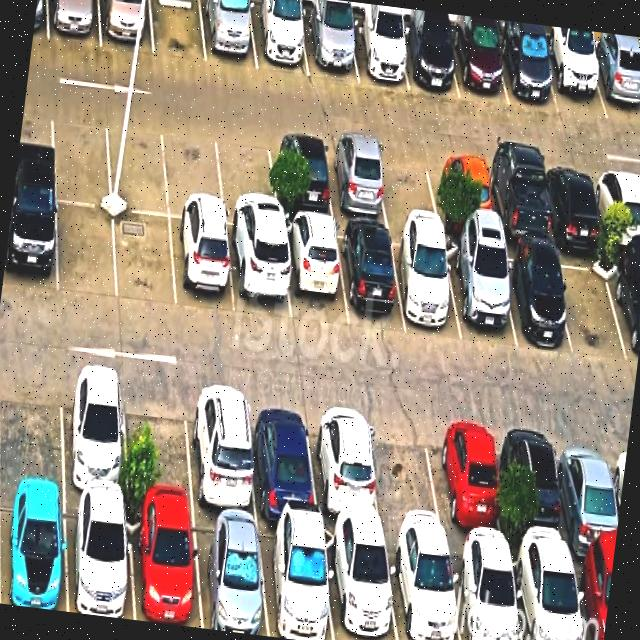empty: (365, 408, 446, 540), (123, 375, 194, 510), (554, 246, 629, 358), (0, 360, 63, 491), (105, 112, 168, 216), (215, 126, 278, 230), (114, 210, 176, 310), (164, 120, 224, 222), (51, 105, 111, 206), (57, 202, 117, 299), (375, 144, 440, 227), (150, 0, 206, 62)
occupied: (431, 413, 505, 548), (307, 399, 382, 531), (186, 383, 256, 518), (192, 512, 268, 636), (247, 391, 318, 522), (127, 504, 201, 628), (61, 365, 127, 501), (258, 521, 333, 640), (503, 420, 570, 553), (65, 495, 134, 620), (555, 427, 619, 557), (323, 528, 397, 640), (0, 489, 66, 611), (443, 239, 516, 347), (390, 231, 461, 340), (496, 245, 571, 348), (385, 538, 460, 640), (336, 224, 405, 330), (448, 542, 522, 640), (281, 218, 347, 326), (510, 548, 584, 640), (170, 218, 234, 314), (226, 226, 290, 321), (483, 156, 552, 244), (268, 133, 334, 219), (430, 151, 495, 236), (2, 191, 56, 293), (324, 138, 388, 223), (541, 38, 607, 119), (542, 162, 604, 244), (497, 29, 558, 112), (449, 25, 508, 104), (397, 23, 459, 97), (248, 0, 308, 76), (348, 16, 408, 90), (587, 43, 640, 123), (200, 0, 257, 70), (592, 166, 640, 248), (302, 10, 357, 81), (571, 554, 613, 640), (609, 251, 640, 364), (98, 0, 153, 53), (47, 0, 100, 46)
